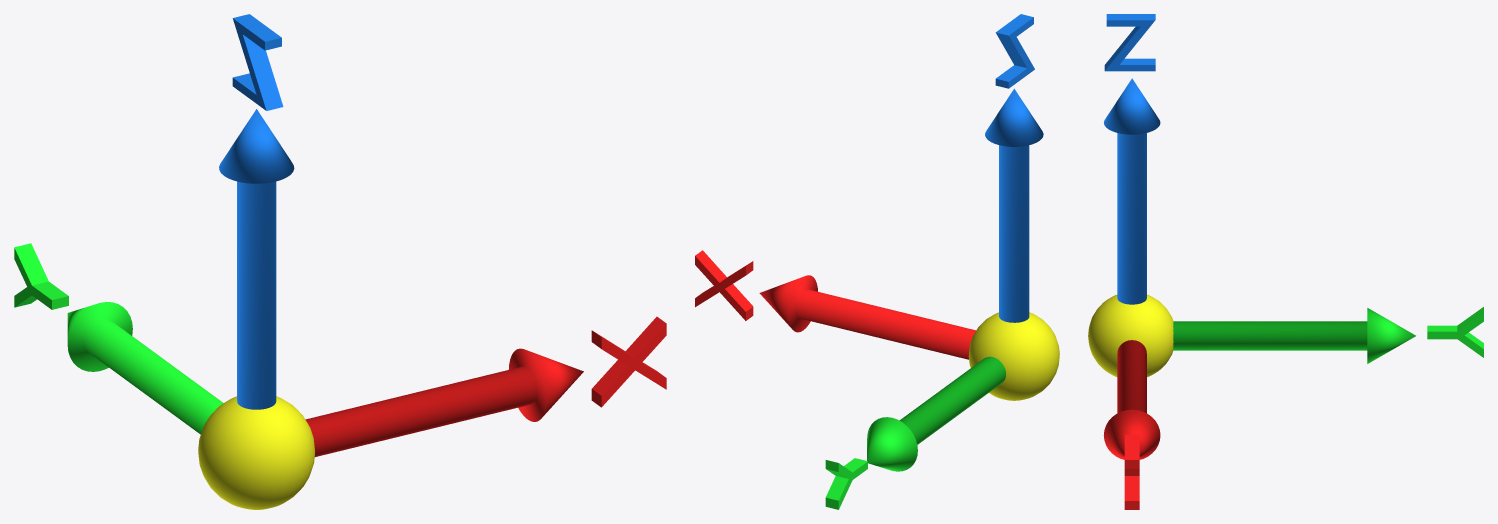
The model's file is 3D Gizmo.obj.
The picture shows the model from 3 angles, left to right: view 1: azimuth 30°, elevation 25°; view 2: azimuth 150°, elevation 25°; view 3: azimuth 270°, elevation 25°; orthographic projection. The views are drawn at different scales.
Visible parts, largest first — view 1: Gizmo; view 2: Gizmo; view 3: Gizmo.
Part boxes in pixels (<box>): Gizmo: <box>14,14,666,509</box>; Gizmo: <box>695,14,1059,509</box>; Gizmo: <box>1088,14,1483,509</box>.
Size of the model in its own units: 1.35 by 1.35 by 1.35.
Materials: 1 (1 with a texture image).
